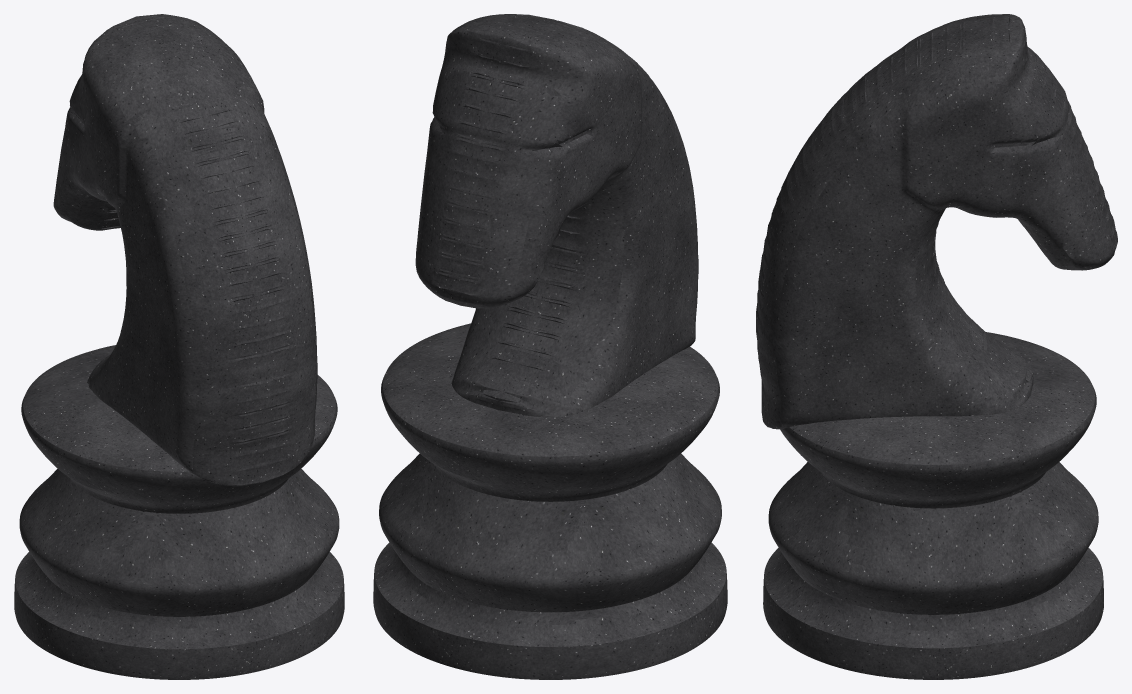
File: knight-black-hd.glb
3 views of the same model, side by side, from view 1: azimuth 30°, elevation 25°; view 2: azimuth 150°, elevation 25°; view 3: azimuth 270°, elevation 25° (orthographic). The views are drawn at different scales.
Parts seen in each view (by area): view 1: jezdec_cerna; view 2: jezdec_cerna; view 3: jezdec_cerna.
Part boxes in pixels (box(x1,y1,x2,y2)): jezdec_cerna: box(14, 14, 344, 679); jezdec_cerna: box(373, 14, 727, 679); jezdec_cerna: box(756, 14, 1117, 679).
Size of the model in its own units: 0.6008 by 1.15 by 0.6376.
1 material, 1 textured.
